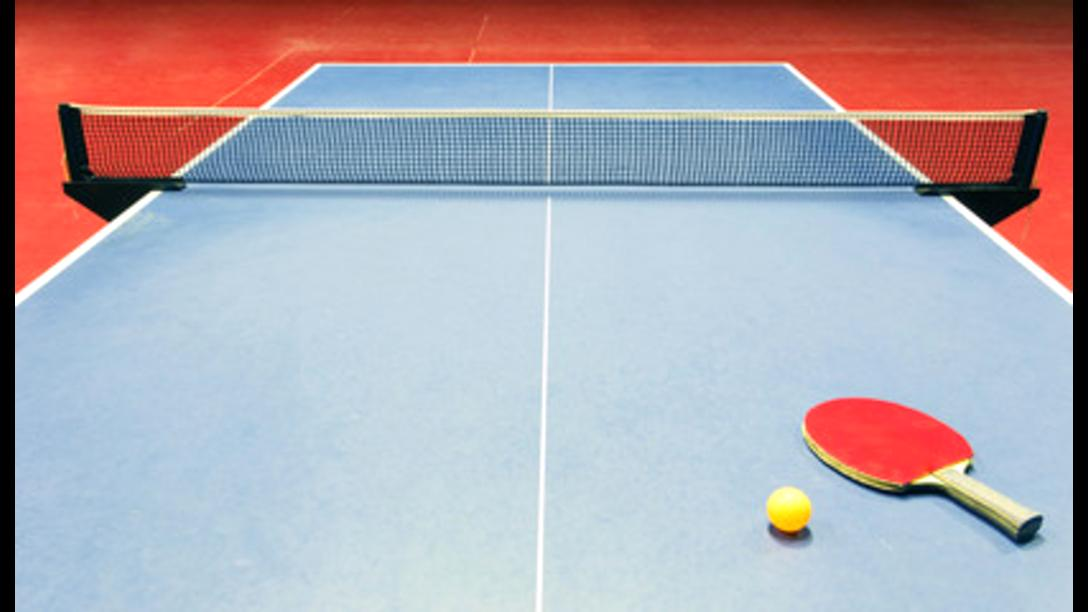Table-Tennis-Ball: (768, 488, 812, 530)
